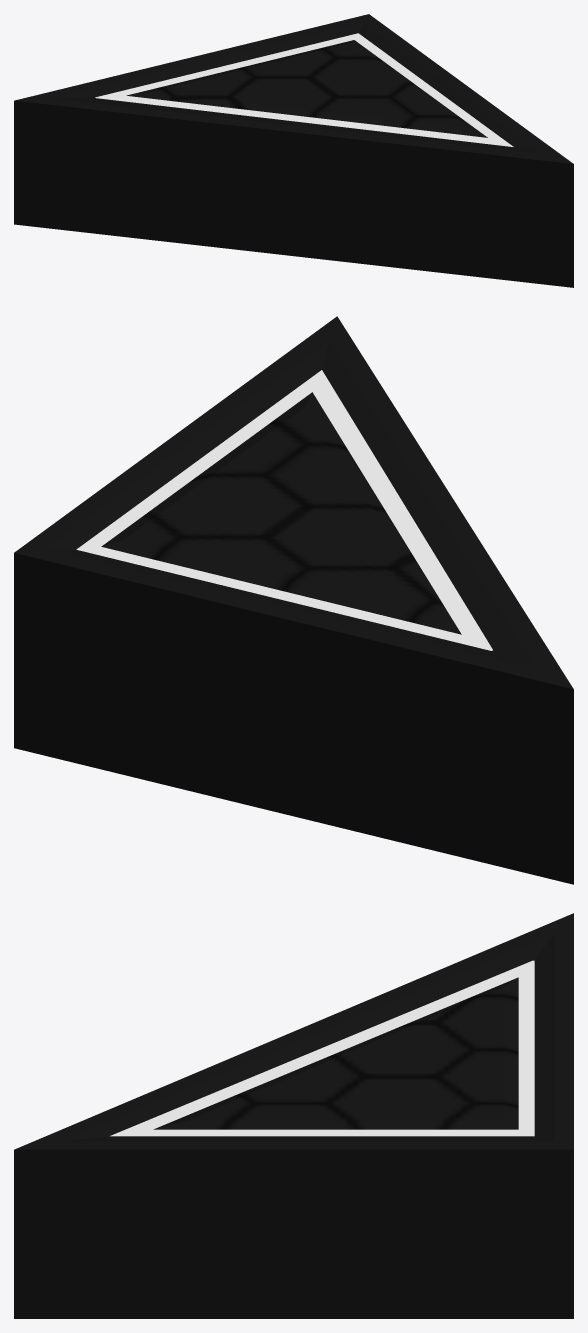
The model's file is Tile 2E3.fbx.
The picture shows the model from 3 angles, top to bottom: view 1: azimuth 30°, elevation 25°; view 2: azimuth 150°, elevation 25°; view 3: azimuth 270°, elevation 25°; orthographic projection. The views are drawn at different scales.
Visible parts, largest first — view 1: pCube170; view 2: pCube170; view 3: pCube170.
Part boxes in pixels (box(x1,y1,x2,y2)): pCube170: box(14, 14, 573, 287); pCube170: box(14, 316, 573, 884); pCube170: box(14, 913, 573, 1318).
Size of the model in its own units: 3 by 1 by 3.
